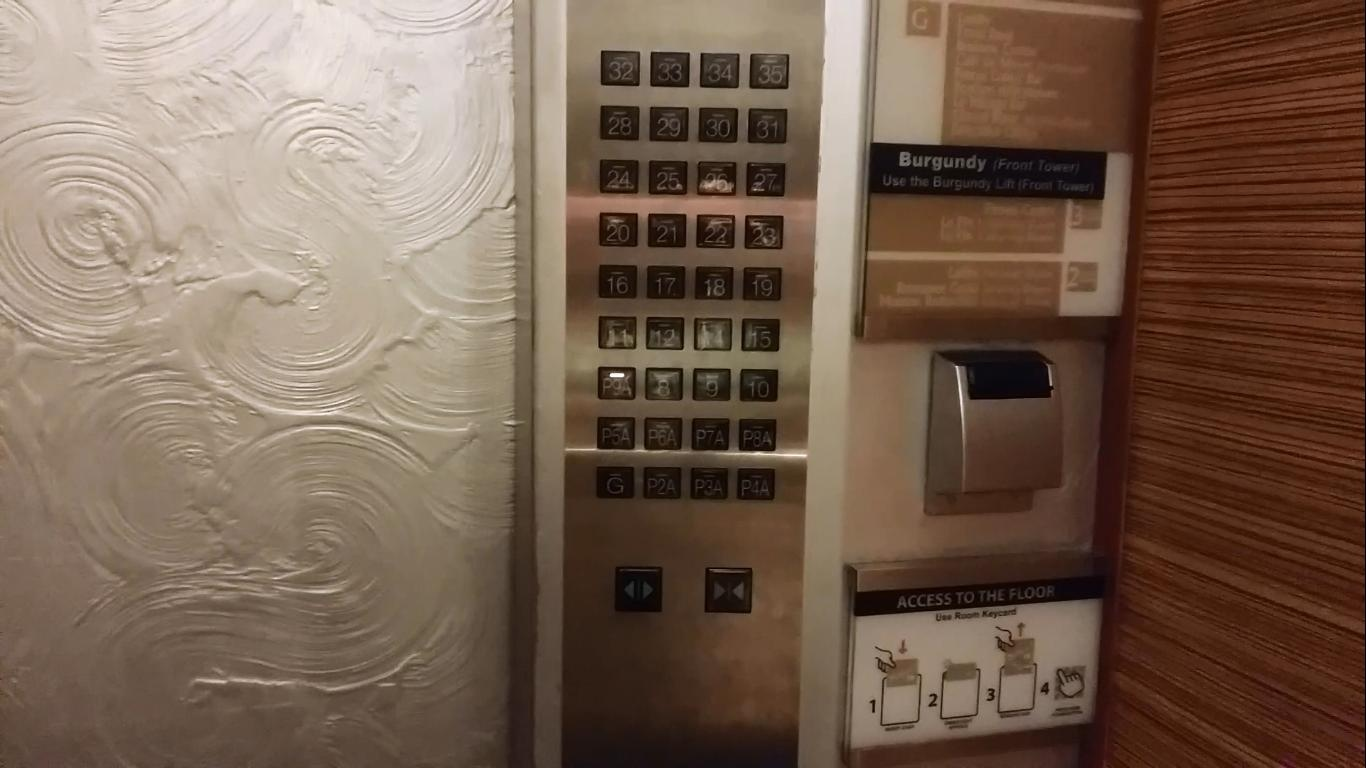10: (739, 367, 780, 403)
11: (596, 314, 638, 351)
12: (645, 316, 685, 350)
14: (692, 317, 734, 352)
15: (741, 316, 781, 354)
16: (597, 263, 638, 301)
17: (646, 264, 686, 300)
18: (695, 265, 734, 301)
19: (741, 266, 782, 302)
20: (598, 210, 639, 248)
21: (646, 212, 688, 249)
22: (696, 213, 735, 249)
23: (744, 213, 785, 250)
24: (599, 159, 639, 195)
25: (648, 159, 688, 196)
26: (697, 160, 737, 196)
27: (746, 161, 786, 198)
28: (598, 104, 640, 141)
29: (648, 105, 689, 142)
30: (698, 105, 740, 142)
31: (747, 108, 787, 145)
32: (599, 48, 641, 87)
33: (649, 49, 690, 89)
34: (698, 52, 740, 89)
35: (749, 51, 791, 92)
8: (643, 366, 683, 402)
9: (692, 367, 730, 402)
G: (594, 465, 636, 501)
P2A: (642, 466, 683, 500)
P3A: (690, 466, 728, 501)
P4A: (736, 467, 776, 501)
P5A: (596, 415, 635, 451)
P6A: (644, 416, 684, 451)
P7A: (691, 417, 730, 452)
P8A: (738, 418, 776, 452)
P9A: (596, 365, 636, 400)
close: (703, 566, 753, 613)
open: (613, 565, 664, 613)
